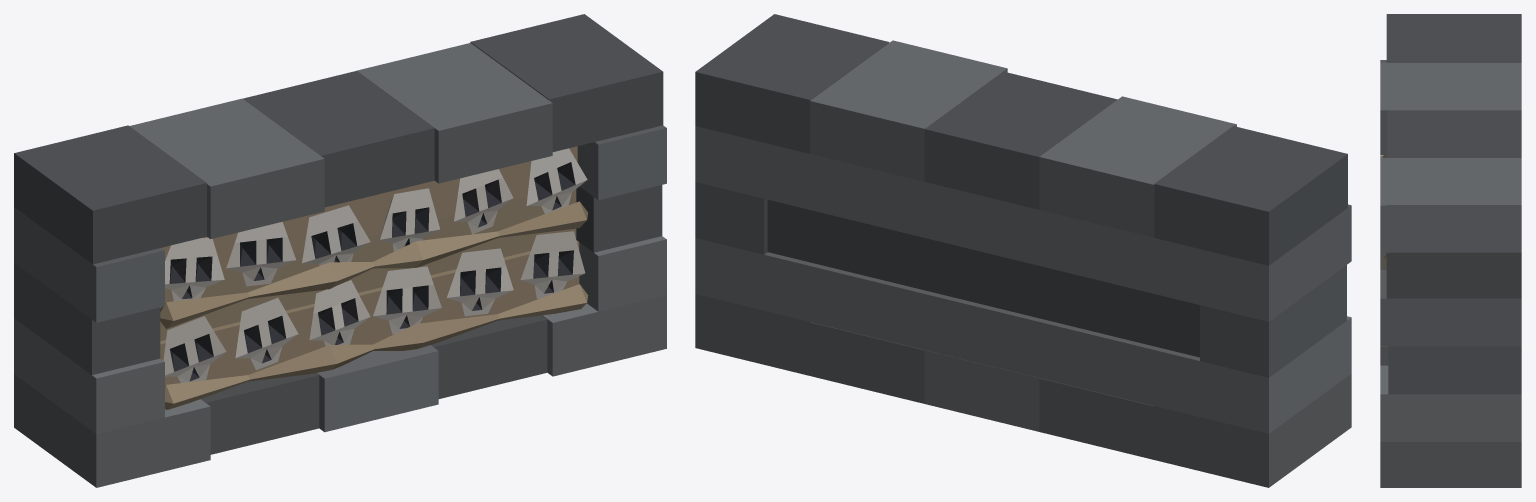
Rendered from ossuary-skull-shelf-a8fdf0.glb.
3 renders of one model, left to right at view 1: azimuth 30°, elevation 25°; view 2: azimuth 150°, elevation 25°; view 3: azimuth 270°, elevation 25°, orthographic. The views are drawn at different scales.
Parts seen in each view (by area): view 1: ossuary-skull-shelf; view 2: ossuary-skull-shelf; view 3: ossuary-skull-shelf.
Part boxes in pixels (x1,y1,x2,y2): ossuary-skull-shelf: [14, 14, 666, 487]; ossuary-skull-shelf: [695, 14, 1351, 487]; ossuary-skull-shelf: [1380, 14, 1521, 487].
Bounding box in the file's own units: 2 × 0.92 × 0.5.
